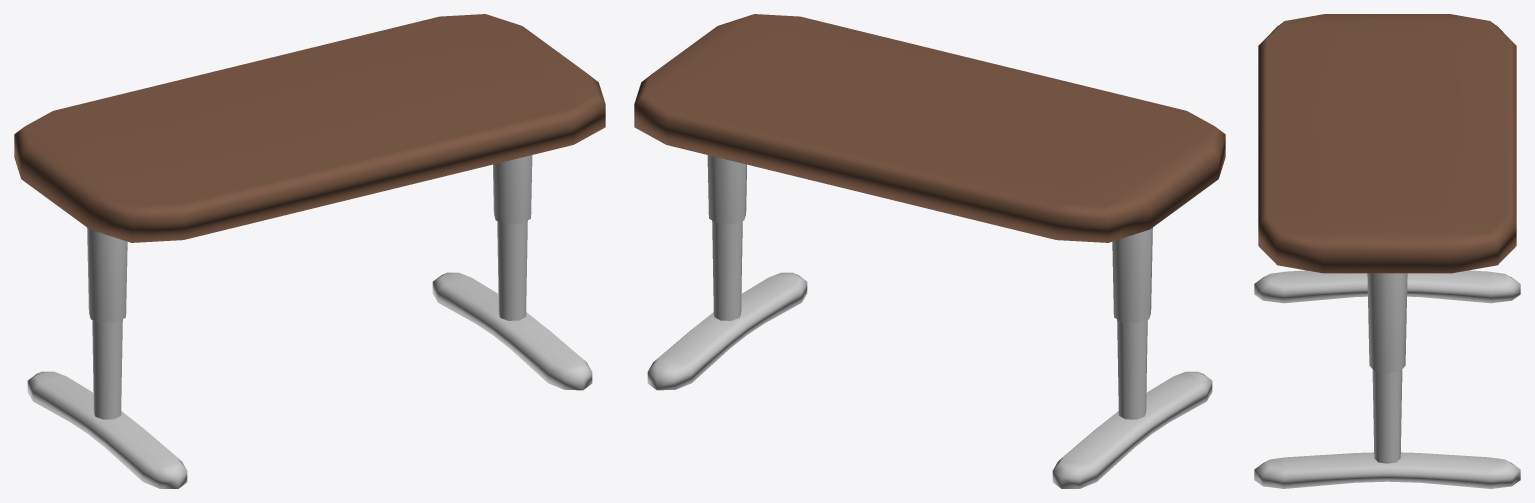
The model's file is mesh_table_a_01.fbx.
3 views of the same model, side by side, from view 1: azimuth 30°, elevation 25°; view 2: azimuth 150°, elevation 25°; view 3: azimuth 270°, elevation 25° (orthographic). The views are drawn at different scales.
Visible parts, largest first — view 1: mesh_table_a_01; view 2: mesh_table_a_01; view 3: mesh_table_a_01.
Part boxes in pixels (x1,y1,x2,y2): mesh_table_a_01: (14, 14, 605, 488); mesh_table_a_01: (634, 14, 1225, 488); mesh_table_a_01: (1254, 14, 1520, 488).
Bounding box in the file's own units: 46.36 × 24.14 × 22.36.
